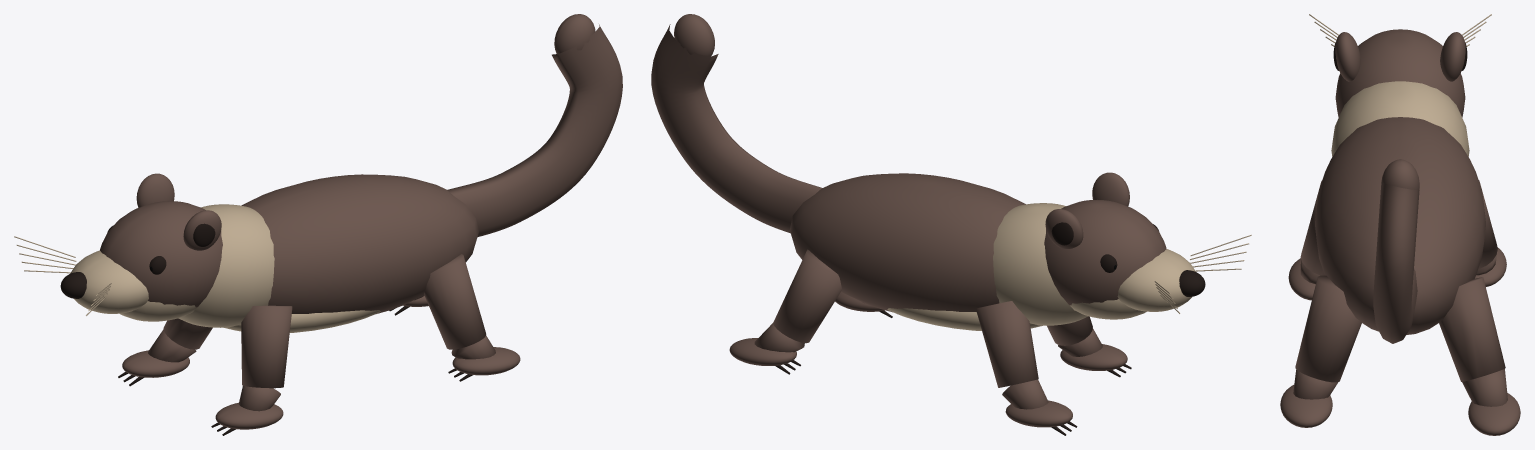
Rendered from smooth-coated-otter-v1.glb.
3 renders of one model, left to right at view 1: azimuth 30°, elevation 25°; view 2: azimuth 150°, elevation 25°; view 3: azimuth 270°, elevation 25°, orthographic. The views are drawn at different scales.
Visible parts, largest first — view 1: torso/torso-volume, tail/flattened-tail, head/head-volume, neck/neck-blend, limb-system/limb-upper-4, limb-system/limb-upper-2, muzzle/blunt-muzzle, torso/belly-zone, limb-system/webbed-paw-2, limb-system/webbed-paw-4, limb-system/webbed-paw-1, tail/tapered-tail-cap (+8 smaller); view 2: torso/torso-volume, tail/flattened-tail, head/head-volume, neck/neck-blend, limb-system/limb-upper-1, limb-system/limb-upper-3, muzzle/blunt-muzzle, tail/tapered-tail-cap, torso/belly-zone, limb-system/webbed-paw-1, limb-system/webbed-paw-3, limb-system/webbed-paw-2 (+8 smaller); view 3: torso/torso-volume, tail/flattened-tail, head/head-volume, neck/neck-blend, limb-system/limb-upper-4, limb-system/limb-upper-3, limb-system/webbed-paw-3, limb-system/webbed-paw-4, limb-system/limb-lower-3, ear-pair/ear-left, ear-pair/ear-right, tail/tapered-tail-cap (+5 smaller).
Boxes of the visible parts, x1,y1,x2,y2 form: torso/torso-volume: (241, 174, 478, 313); tail/flattened-tail: (447, 24, 622, 236); head/head-volume: (100, 201, 222, 307); neck/neck-blend: (178, 204, 274, 327); limb-system/limb-upper-4: (424, 254, 486, 349); limb-system/limb-upper-2: (241, 305, 292, 388); muzzle/blunt-muzzle: (70, 250, 148, 313); torso/belly-zone: (224, 310, 380, 332); limb-system/webbed-paw-2: (215, 402, 283, 429); limb-system/webbed-paw-4: (452, 347, 520, 375); limb-system/webbed-paw-1: (122, 350, 189, 377); tail/tapered-tail-cap: (554, 14, 595, 53); torso/torso-volume: (790, 173, 1025, 312); tail/flattened-tail: (651, 24, 822, 233); head/head-volume: (1044, 199, 1166, 305); neck/neck-blend: (993, 203, 1088, 325); limb-system/limb-upper-1: (975, 301, 1038, 387); limb-system/limb-upper-3: (773, 249, 842, 343); muzzle/blunt-muzzle: (1117, 249, 1195, 311); tail/tapered-tail-cap: (674, 14, 714, 56); torso/belly-zone: (887, 308, 1042, 330); limb-system/webbed-paw-1: (1005, 400, 1072, 427); limb-system/webbed-paw-3: (729, 338, 796, 365); limb-system/webbed-paw-2: (1060, 344, 1127, 370); torso/torso-volume: (1315, 117, 1485, 334); tail/flattened-tail: (1373, 183, 1419, 343); head/head-volume: (1335, 29, 1465, 117); neck/neck-blend: (1331, 81, 1469, 156); limb-system/limb-upper-4: (1295, 275, 1361, 382); limb-system/limb-upper-3: (1439, 277, 1505, 381); limb-system/webbed-paw-3: (1468, 393, 1520, 435); limb-system/webbed-paw-4: (1280, 385, 1332, 427); limb-system/limb-lower-3: (1462, 369, 1507, 406); ear-pair/ear-left: (1440, 32, 1465, 81); ear-pair/ear-right: (1335, 32, 1360, 81); tail/tapered-tail-cap: (1381, 159, 1419, 191).
Size of the model in its own units: 2.64 by 1.31 by 0.87.
